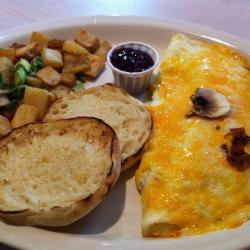bread: (3, 80, 158, 228)
fries: (1, 28, 112, 138)
omelette: (141, 29, 250, 242)
